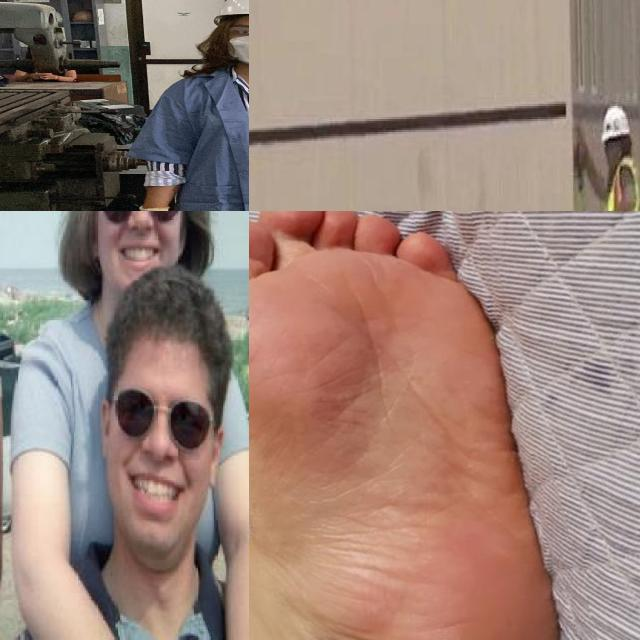Barefoots: (249, 211, 558, 640)
face_mask: (226, 23, 249, 67)
face_nomask: (110, 389, 206, 517), (96, 211, 179, 269)
glasses: (113, 384, 210, 454), (94, 211, 185, 229), (224, 25, 249, 43)
head_helmet: (597, 102, 636, 146), (210, 0, 249, 24)
head_nohelmet: (101, 289, 235, 374)
person: (2, 211, 249, 640), (0, 284, 249, 640), (123, 0, 249, 211), (572, 96, 640, 211)
vest: (594, 154, 640, 211)
